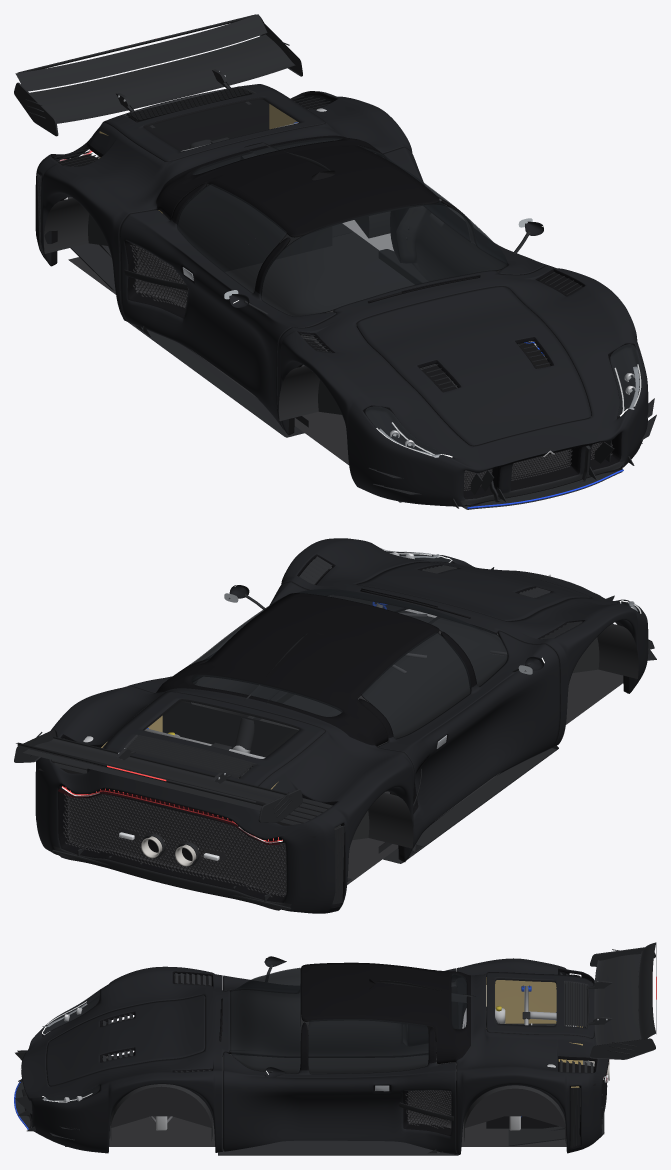
Rendered from aurora.glb.
The picture shows the model from 3 angles, top to bottom: view 1: azimuth 30°, elevation 25°; view 2: azimuth 150°, elevation 25°; view 3: azimuth 270°, elevation 25°; orthographic projection. The views are drawn at different scales.
Visible parts, largest first — view 1: Body, Glass, Hood, Door_R_skin, BayBulkheads, Floor, Wing, Door_L_skin, Door_R_glass, WingFlap, EngineCover, Lens (+11 smaller); view 2: Body, Door_R_skin, Floor, Glass, TailMesh, Hood, Door_R_glass, EngineCover, Wing, BayBulkheads, Skirt-1, Liner1.41-1 (+9 smaller); view 3: Body, Door_L_skin, Glass, Door_R_skin, Hood, Floor, Door_L_glass, Wing, Liner1.411, EngineCover, Liner-1.411, Skirt1 (+12 smaller).
Boxes of the visible parts, box(x1,y1,x2,y2) form: Body: box(35, 88, 648, 506); Glass: box(143, 97, 508, 316); Hood: box(356, 286, 591, 446); Door_R_skin: box(119, 183, 336, 429); BayBulkheads: box(100, 99, 332, 271); Floor: box(68, 225, 642, 502); Wing: box(29, 34, 296, 123); Door_L_skin: box(359, 145, 555, 345); Door_R_glass: box(177, 184, 286, 293); WingFlap: box(15, 14, 267, 91); EngineCover: box(103, 84, 325, 161); Lens: box(365, 344, 642, 455); Body: box(35, 538, 648, 913); Door_R_skin: box(358, 631, 560, 857); Floor: box(259, 610, 623, 884); Glass: box(143, 589, 508, 758); TailMesh: box(63, 793, 286, 897); Hood: box(357, 562, 591, 621); Door_R_glass: box(361, 632, 471, 738); EngineCover: box(104, 691, 325, 786); Wing: box(23, 735, 287, 810); BayBulkheads: box(162, 701, 298, 757); Skirt-1: box(378, 745, 558, 863); Liner1.41-1: box(572, 623, 638, 678); Body: box(21, 958, 608, 1154); Door_L_skin: box(223, 1022, 456, 1154); Glass: box(230, 967, 556, 1073); Door_R_skin: box(223, 965, 458, 1056); Hood: box(46, 995, 205, 1086); Floor: box(65, 1056, 566, 1146); Door_L_glass: box(308, 1019, 428, 1073); Wing: box(594, 951, 641, 1045); Liner1.411: box(110, 1084, 212, 1140); EngineCover: box(486, 972, 594, 1038); Liner-1.411: box(464, 1085, 566, 1142); Skirt1: box(218, 1138, 458, 1155).
Bounding box in the file's own units: 2.21 × 1.09 × 5.13.
